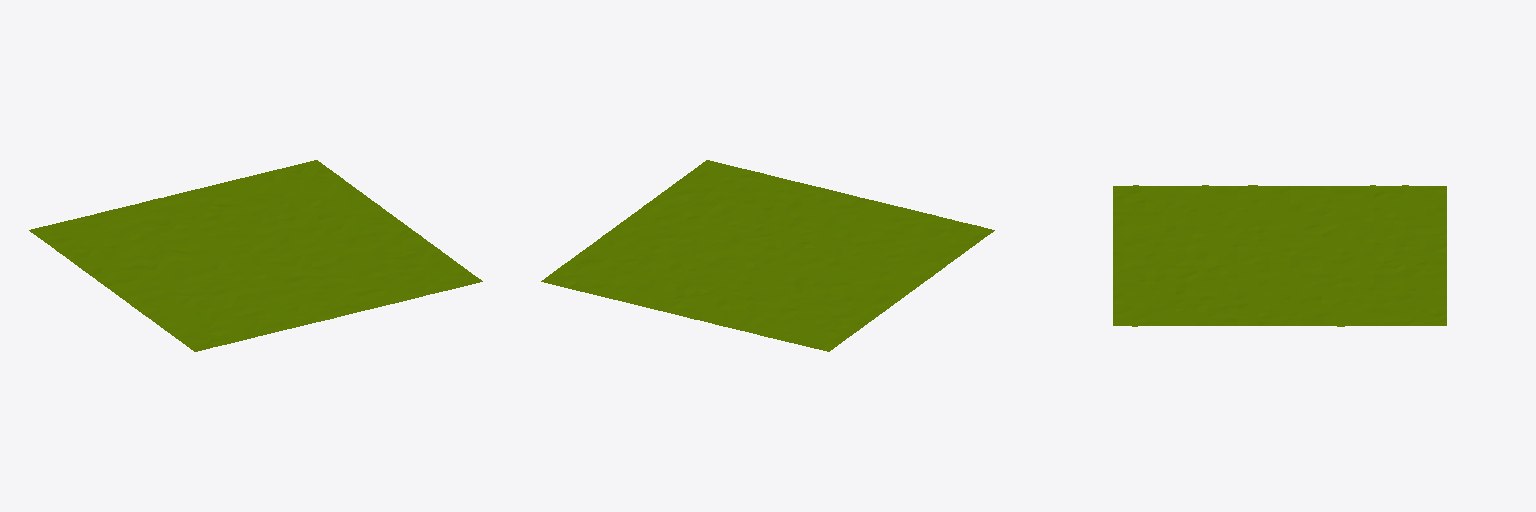
File: map.obj
3 views of the same model, side by side, from view 1: azimuth 30°, elevation 25°; view 2: azimuth 150°, elevation 25°; view 3: azimuth 270°, elevation 25° (orthographic).
Parts seen in each view (by area): view 1: Plane.001_Plane.000; view 2: Plane.001_Plane.000; view 3: Plane.001_Plane.000.
Boxes of the visible parts, x1,y1,x2,y2 form: Plane.001_Plane.000: [29, 160, 482, 351]; Plane.001_Plane.000: [541, 160, 994, 351]; Plane.001_Plane.000: [1113, 185, 1446, 326].
Size of the model in its own units: 256 by 0.6173 by 256.